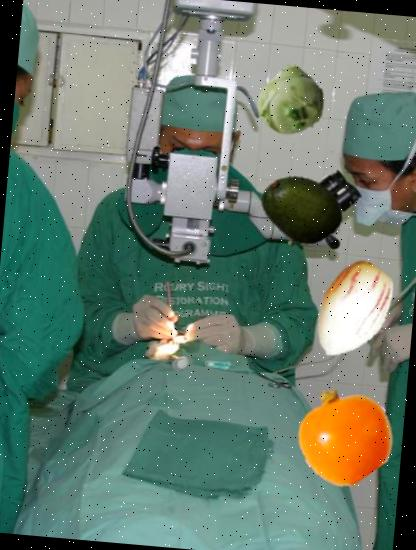Avocado: (255, 166, 346, 258)
Kohlrabi: (252, 60, 330, 138)
Pepino: (298, 256, 406, 366)
Physalis: (292, 382, 395, 486)
